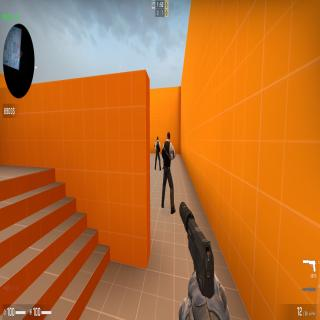T-Body: (162, 132, 176, 214), (154, 136, 162, 171)
T-Head: (167, 132, 170, 142), (156, 136, 158, 142)
